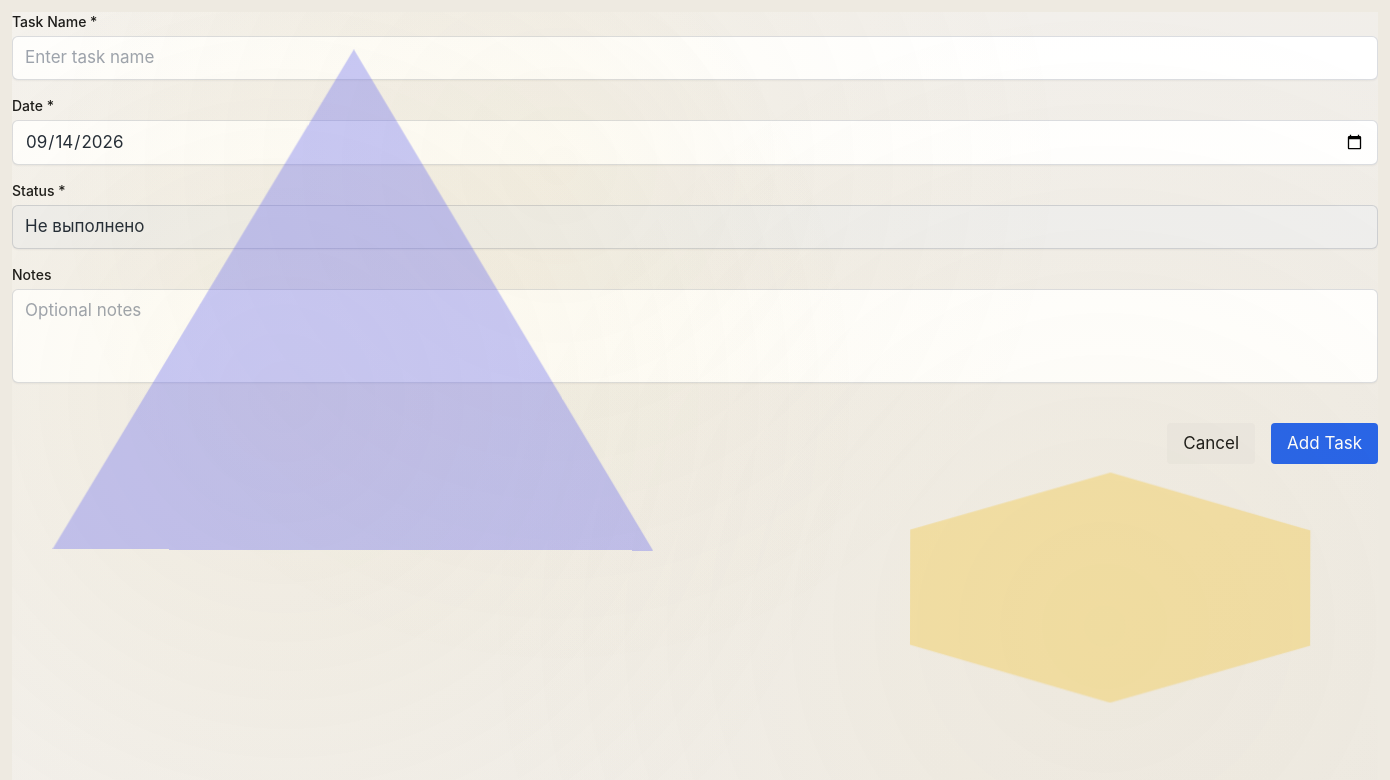
DailyTaskModal › should validate required fields
This screenshot has width=1390, height=780.
What coordinates should you click on to do the following:
click the button "Add Task"
I would click on:
 (1325, 443)
Its box is [1271, 422, 1378, 464].
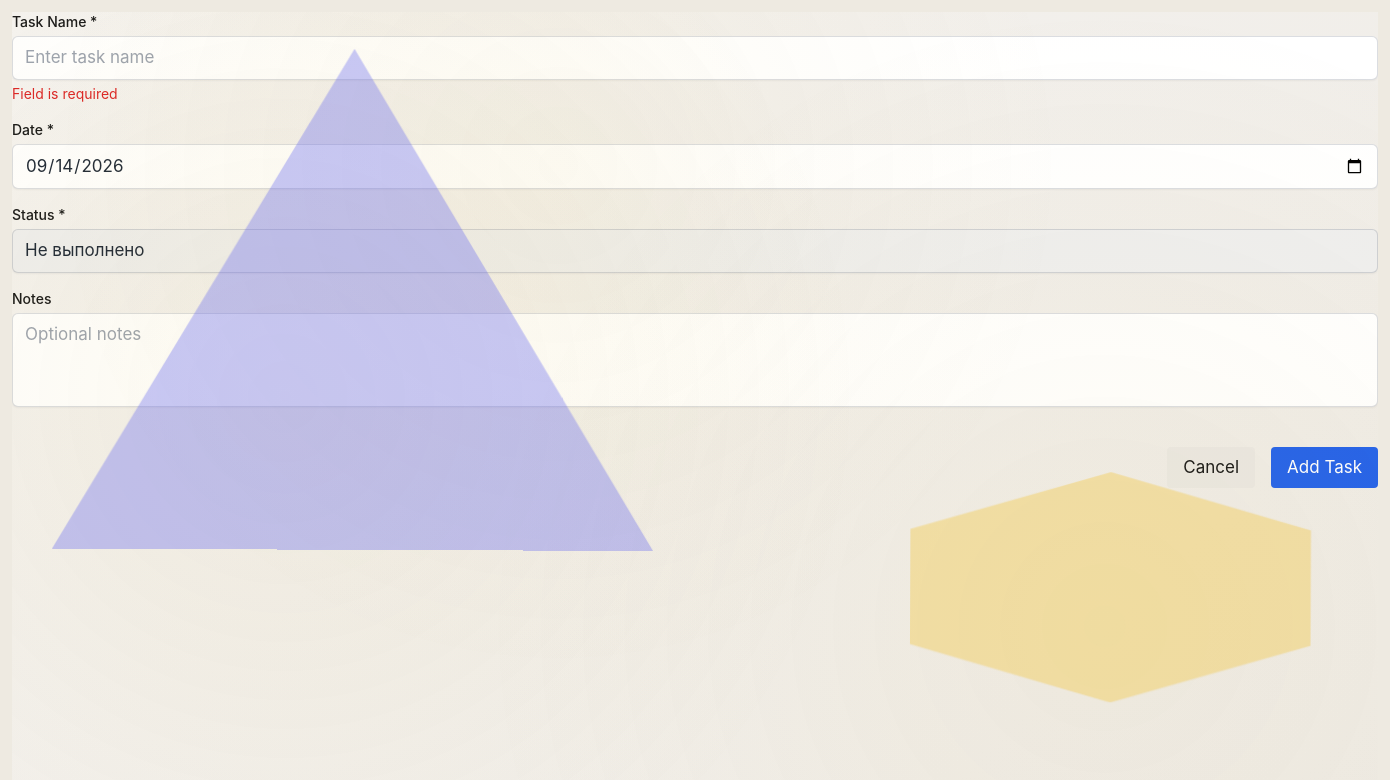
Result: the text "Field is required" is shown at [12, 84, 118, 102]
